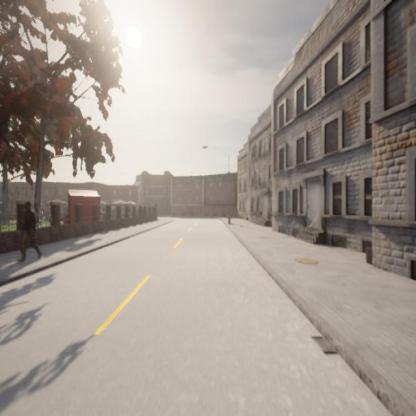person: (18, 202, 42, 262)
